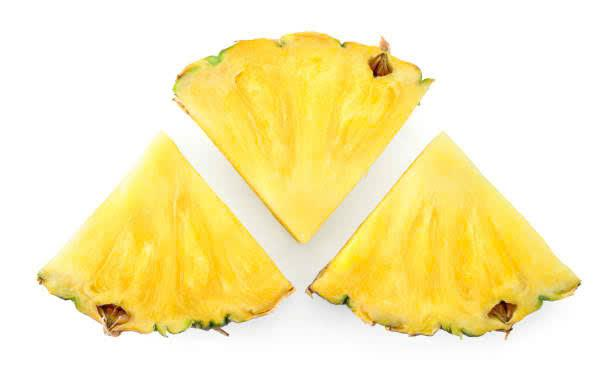pineapple: (30, 132, 295, 346), (309, 133, 581, 337), (165, 34, 436, 232)
